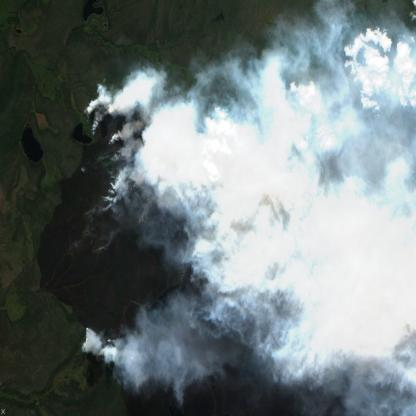fire: (62, 92, 299, 372)
